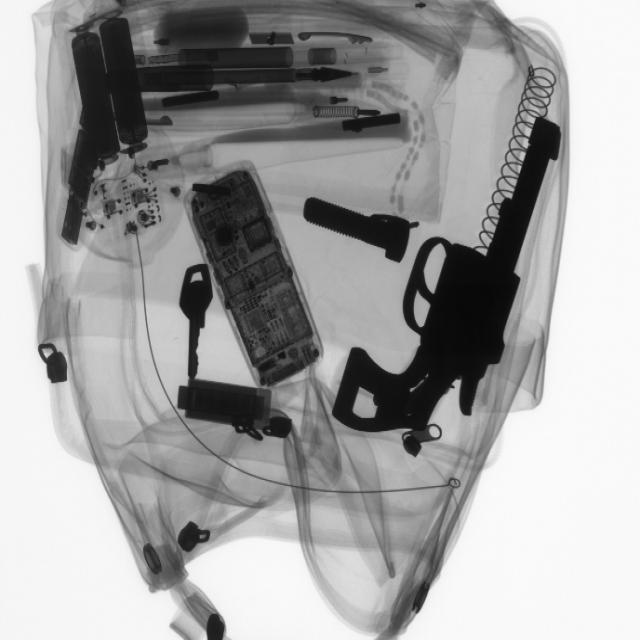GUN: (331, 130, 564, 444)
